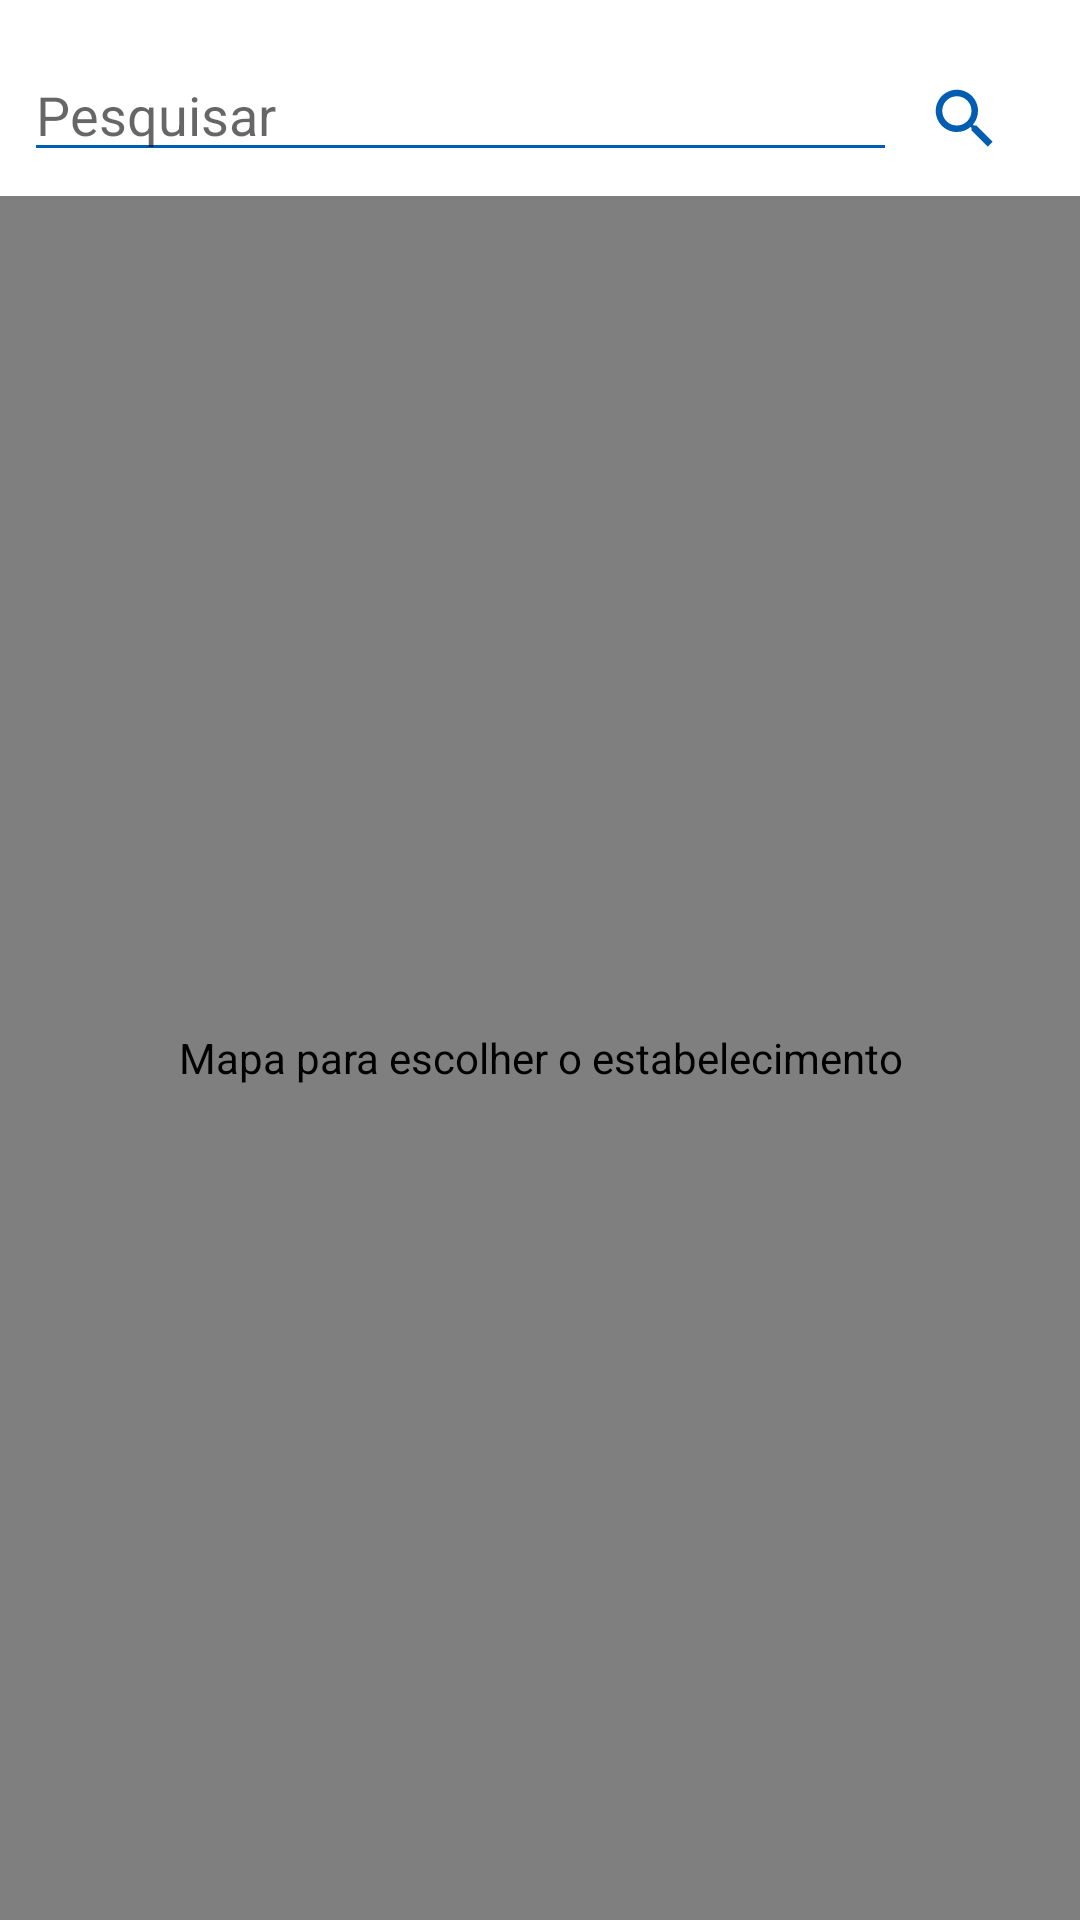

Named icons in this screenshot (1080px×1920px) and their centers, (x,y):
search: (964,118)
